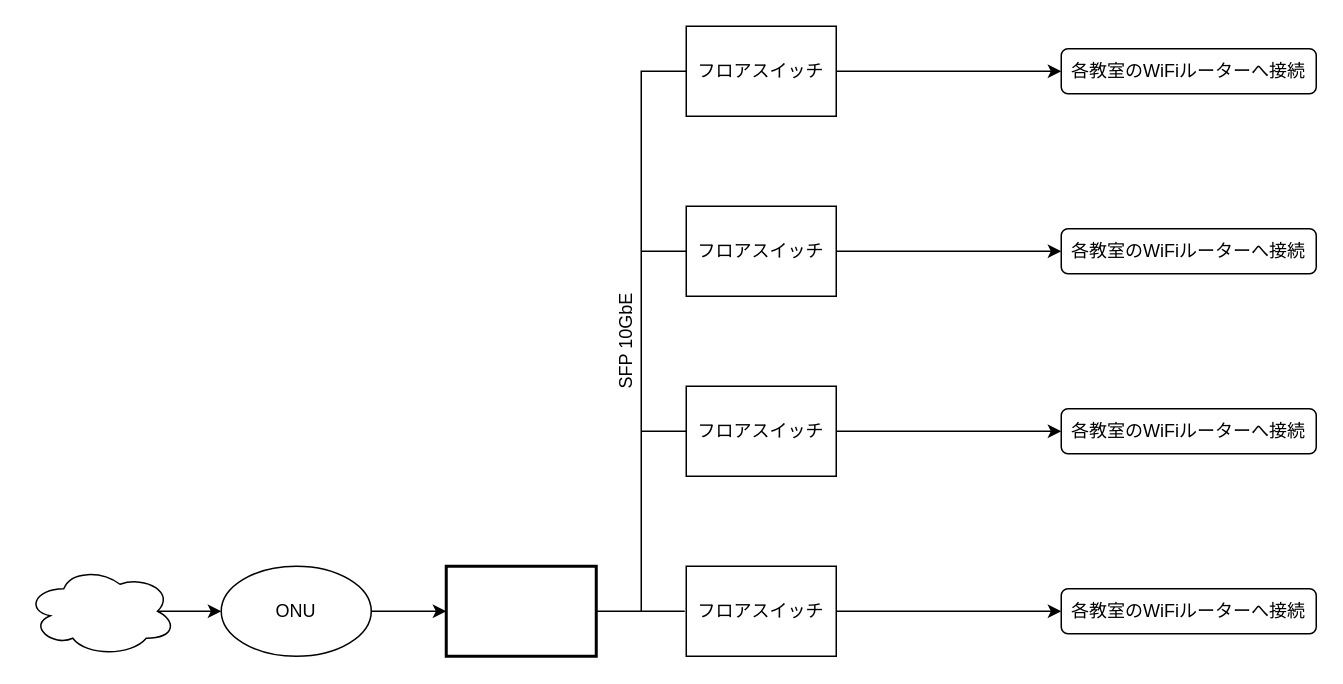
The diagram is 1343 pixels wide and 684 high, and some of its shapes have lost their labels. Here are the shapes that lost their labels. From the top down, the box of each, then its label:
(25, 565, 176, 656): WAN
(444, 564, 597, 657): コアスイッチ
